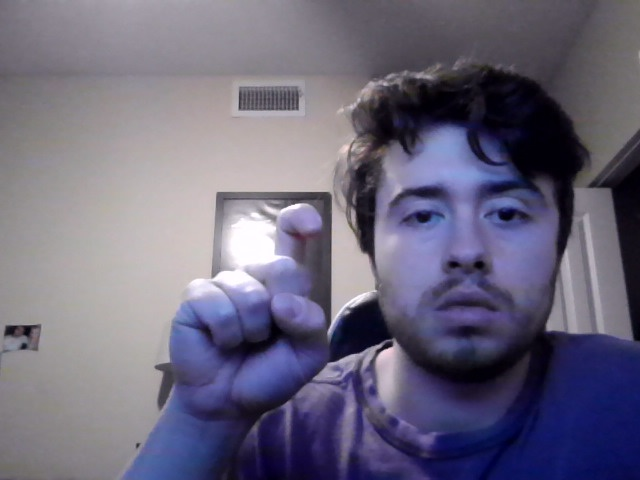x: (169, 201, 331, 461)
